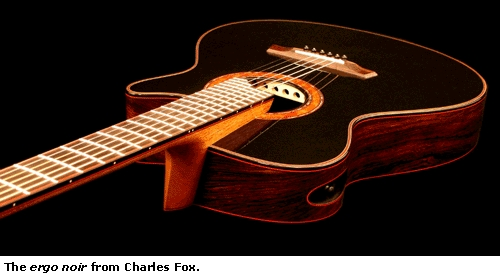guitar: (1, 17, 489, 247)
